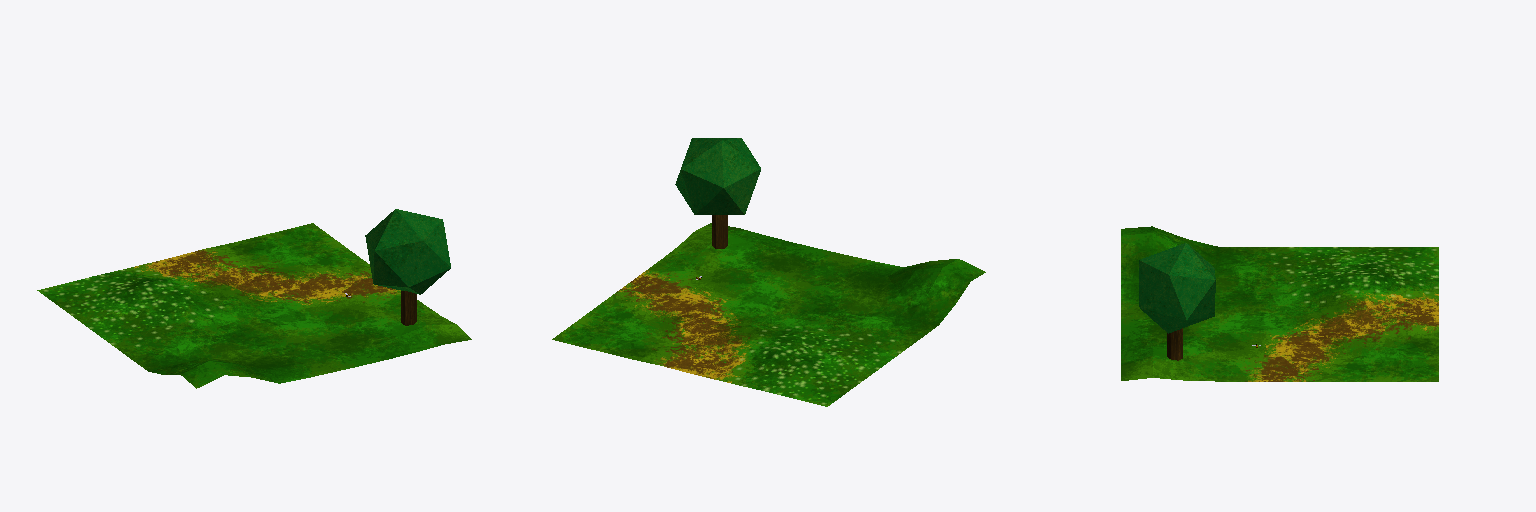
The picture shows the model from 3 angles: view 1: azimuth 30°, elevation 25°; view 2: azimuth 150°, elevation 25°; view 3: azimuth 270°, elevation 25°; orthographic projection.
Parts seen in each view (by area): view 1: export_Grid.001; view 2: export_Grid.001; view 3: export_Grid.001.
Part boxes in pixels (x1,y1,x2,y2): export_Grid.001: (37,209,471,388); export_Grid.001: (552,138,985,406); export_Grid.001: (1121,226,1438,381).
Bounding box in the file's own units: 20.19 × 8.14 × 20.
2 materials, 1 textured.